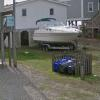Boat: (27, 24, 88, 52)
